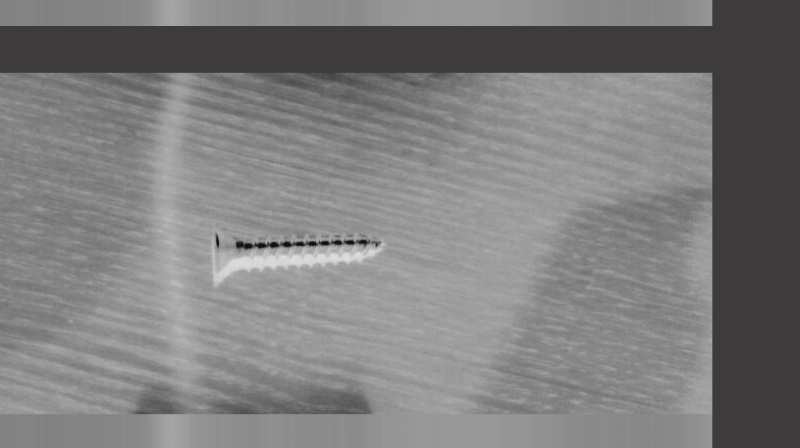S001: (207, 223, 387, 281)
